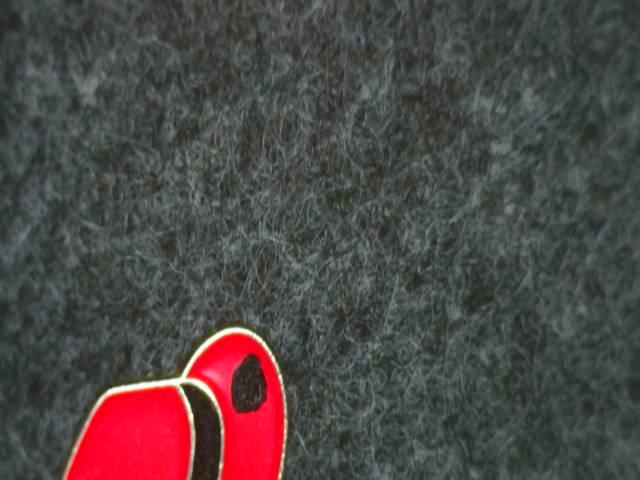Red-Hat: (45, 296, 324, 480)
Scratch: (214, 330, 277, 426)
